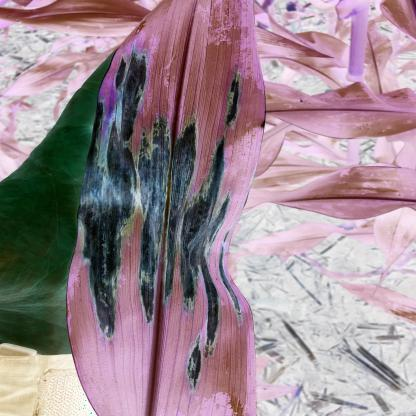Corn leaf blight: (90, 4, 258, 416)
